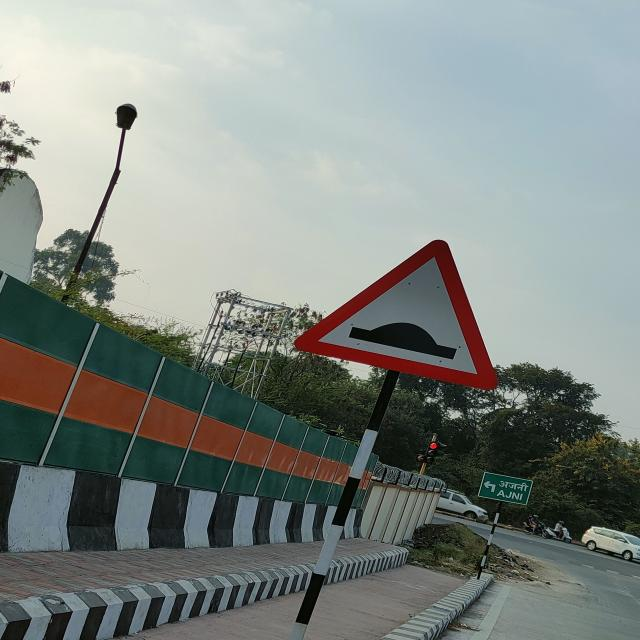horn_prohibited: (293, 239, 500, 390)
